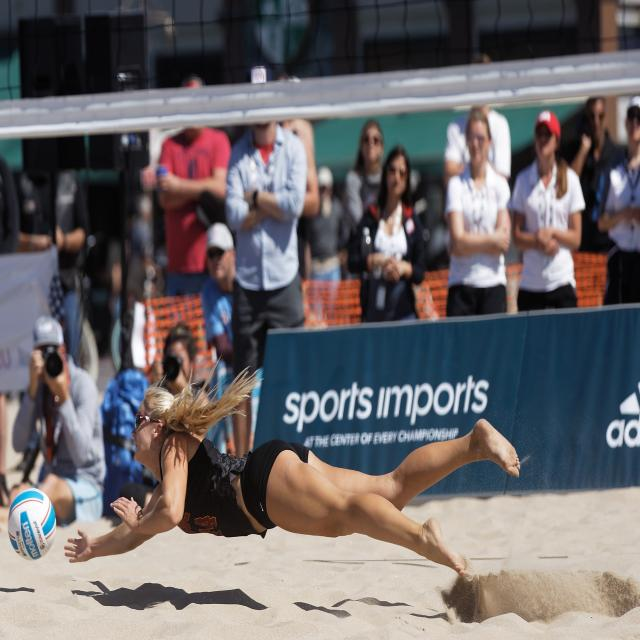body: (63, 352, 522, 588), (225, 60, 308, 460), (8, 314, 107, 527), (154, 72, 232, 298), (199, 221, 265, 460), (15, 160, 90, 368), (511, 108, 586, 312), (444, 110, 514, 317), (351, 144, 426, 323), (268, 61, 322, 279), (97, 107, 145, 326), (442, 52, 513, 184), (597, 91, 640, 308), (302, 162, 348, 327), (576, 95, 619, 254), (345, 119, 385, 275), (151, 321, 211, 404)
